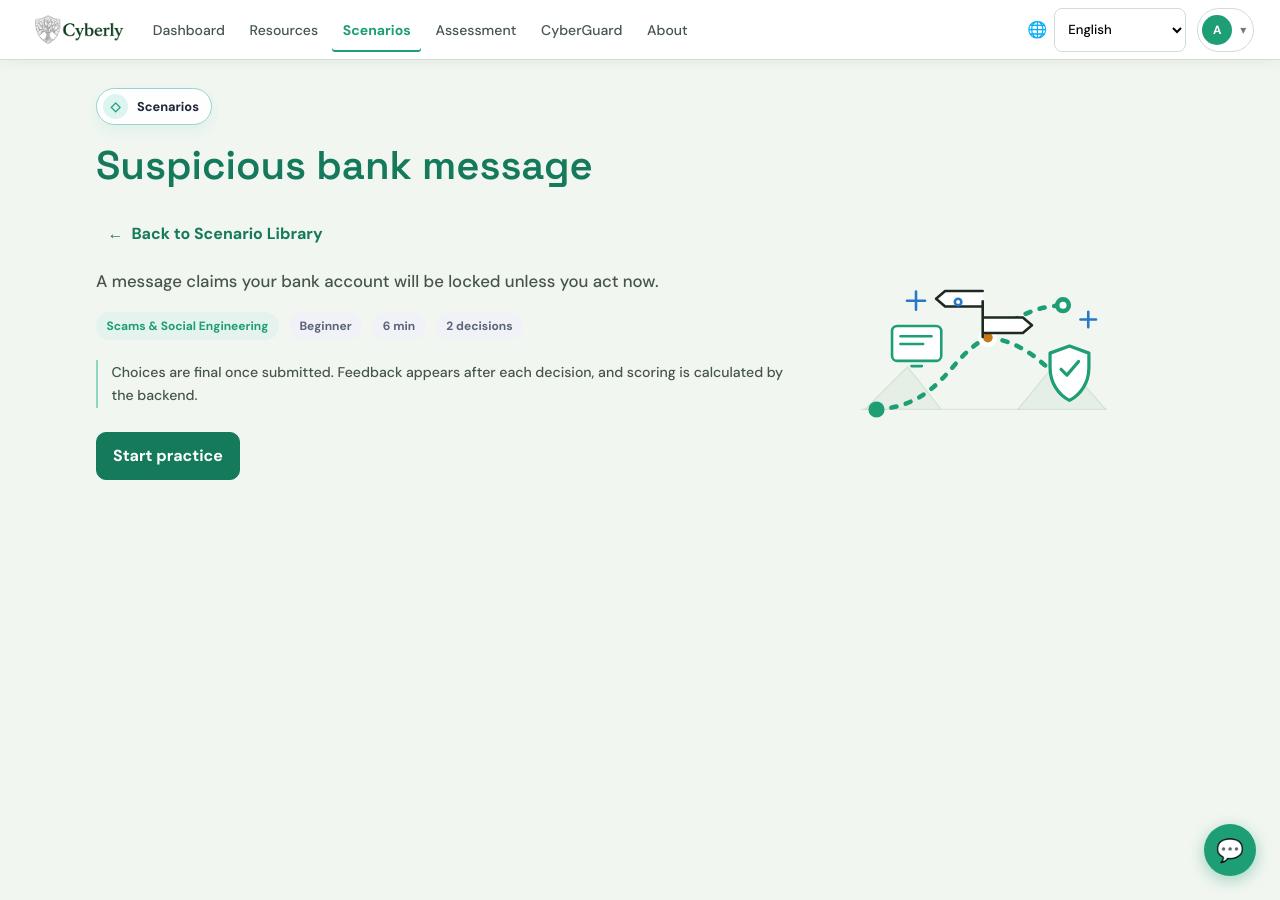
Test: Scenario Decision Trail final visual migration › NIGHT-RUN Navbar canonical return mobile=false state=nested preserves guard and writes
Expected: the button "Start practice" is shown, left=96, top=432, right=240, bottom=480
Click the button "Scenarios" at (377, 30), box left=332, top=8, right=421, bottom=52
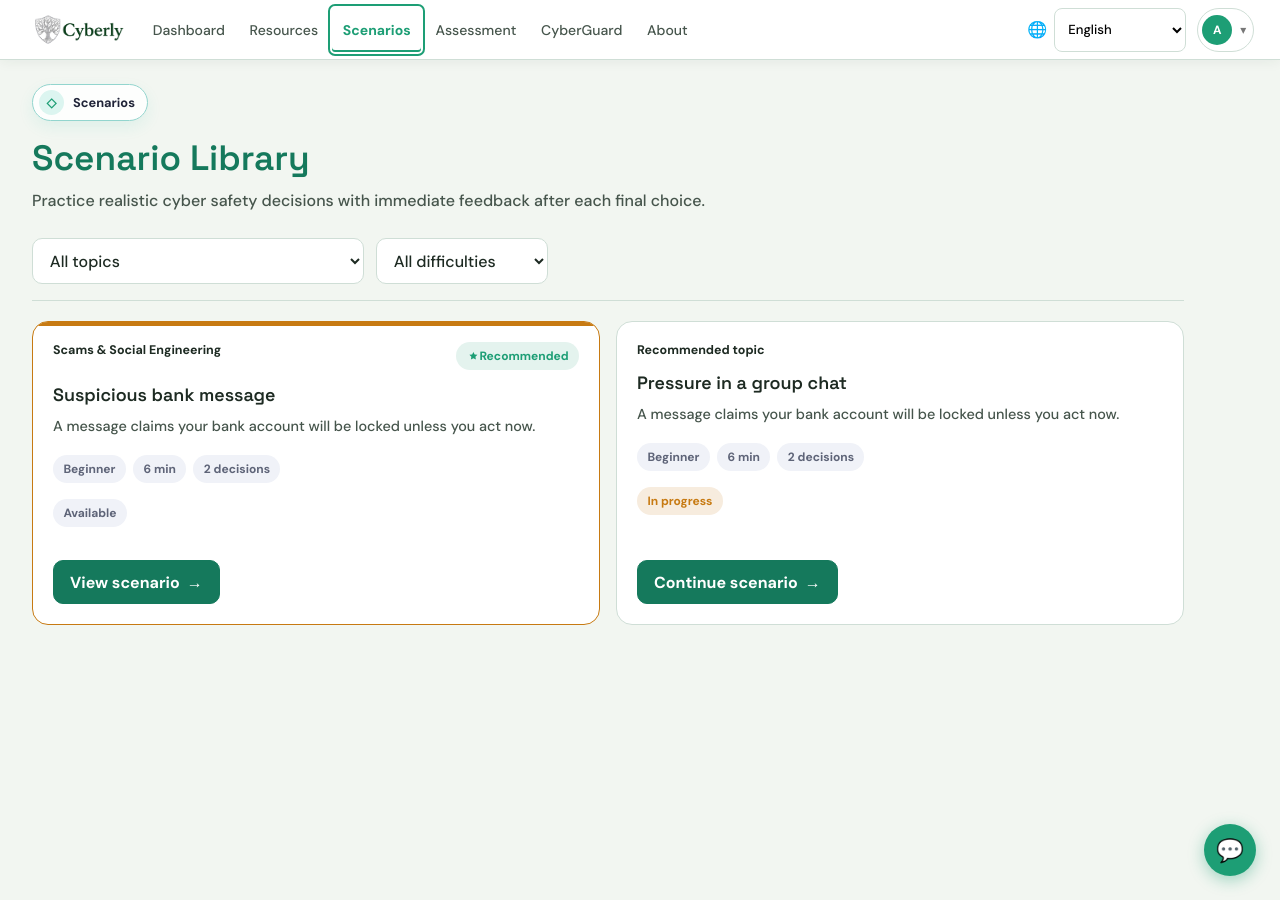
Result: the heading "Scenario Library" is shown at left=32, top=135, right=310, bottom=180
